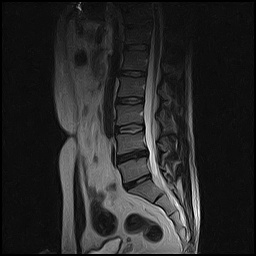L1,v2: (117, 51, 150, 70)
L1-L2,v1: (117, 64, 150, 83)
L2,v2: (114, 77, 147, 96)
L2-L3,v1: (114, 90, 147, 109)
L3,v2: (113, 104, 146, 123)
L3-L4,v5: (114, 118, 147, 137)
L4,v2: (114, 132, 147, 151)
L4-L5,v2: (116, 145, 149, 164)
L4-L5,v5: (116, 145, 149, 164)
L5,v2: (118, 160, 151, 179)
L5-S1,v2: (121, 171, 154, 190)
T12-L1,v1: (119, 36, 152, 55)
